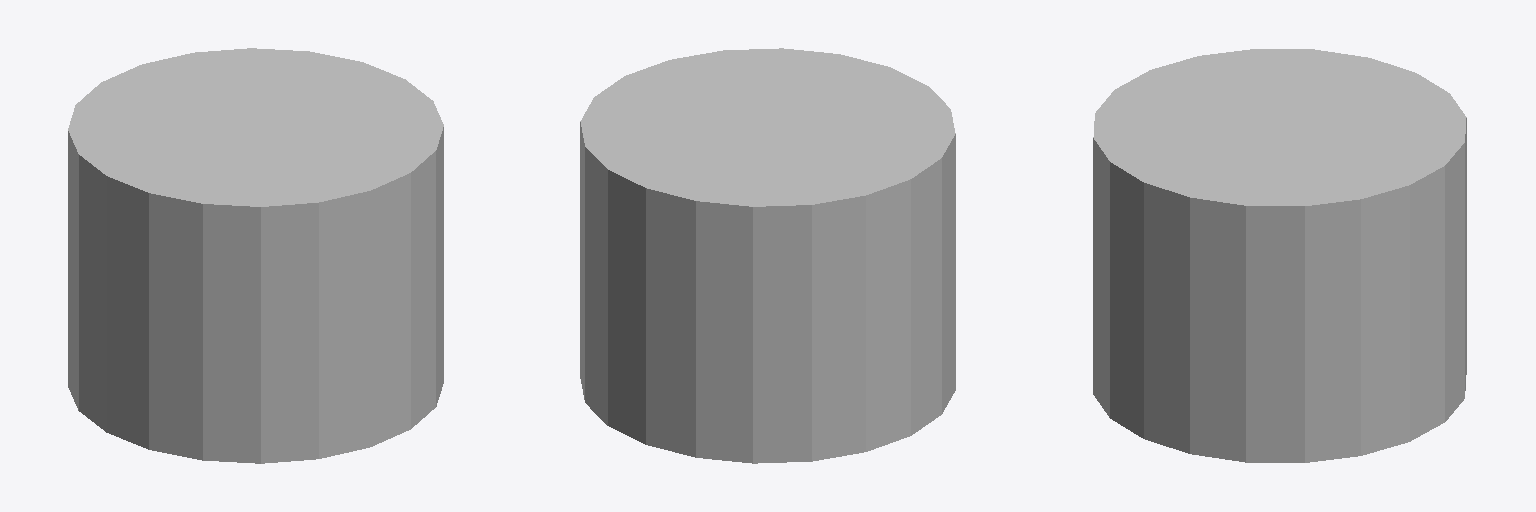
The model's file is Resaltado_Nervio_supraclavicular_I_1.obj.
3 renders of one model, left to right at view 1: azimuth 30°, elevation 25°; view 2: azimuth 150°, elevation 25°; view 3: azimuth 270°, elevation 25°, orthographic.
Visible parts, largest first — view 1: polySurface17 Marcadores1; view 2: polySurface17 Marcadores1; view 3: polySurface17 Marcadores1.
Part boxes in pixels (x1,y1,x2,y2): polySurface17 Marcadores1: (68,48,443,463); polySurface17 Marcadores1: (580,48,955,463); polySurface17 Marcadores1: (1093,49,1466,462).
Size of the model in its own units: 0.0277 by 0.021 by 0.0277.